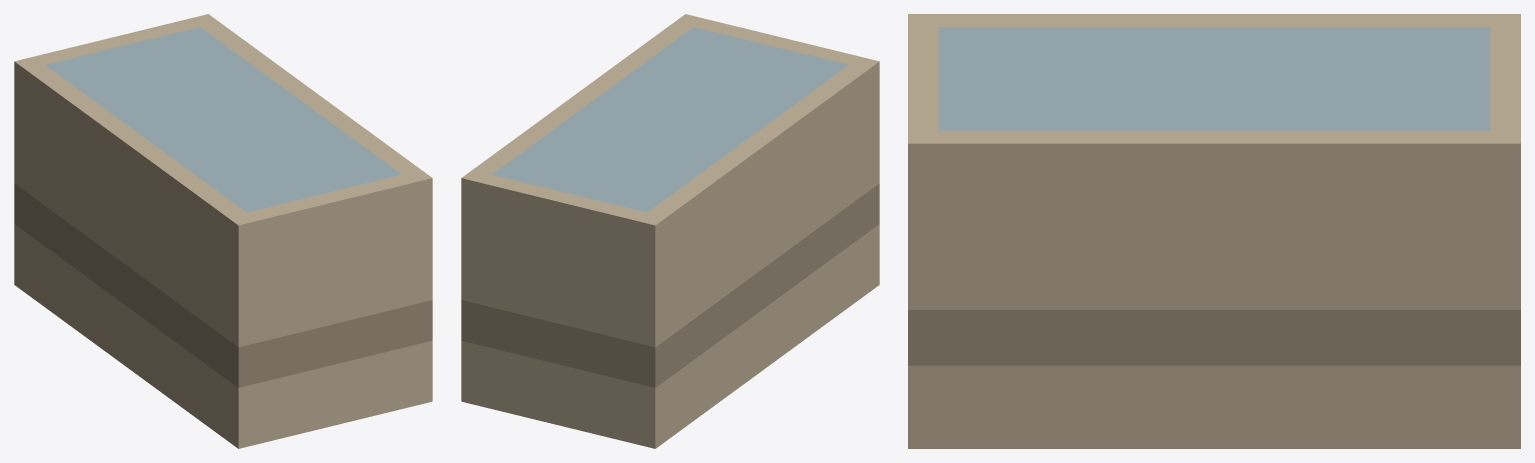
File: bañera_haya_01.glb
3 views of the same model, side by side, from view 1: azimuth 30°, elevation 25°; view 2: azimuth 150°, elevation 25°; view 3: azimuth 270°, elevation 25° (orthographic). The views are drawn at different scales.
Visible parts, largest first — view 1: bañera_haya; view 2: bañera_haya; view 3: bañera_haya.
Part boxes in pixels (bbox=[...]): bañera_haya: bbox=[14, 14, 432, 448]; bañera_haya: bbox=[461, 14, 879, 448]; bañera_haya: bbox=[908, 14, 1520, 448].
Bounding box in the file's own units: 1 × 1.1 × 2.
